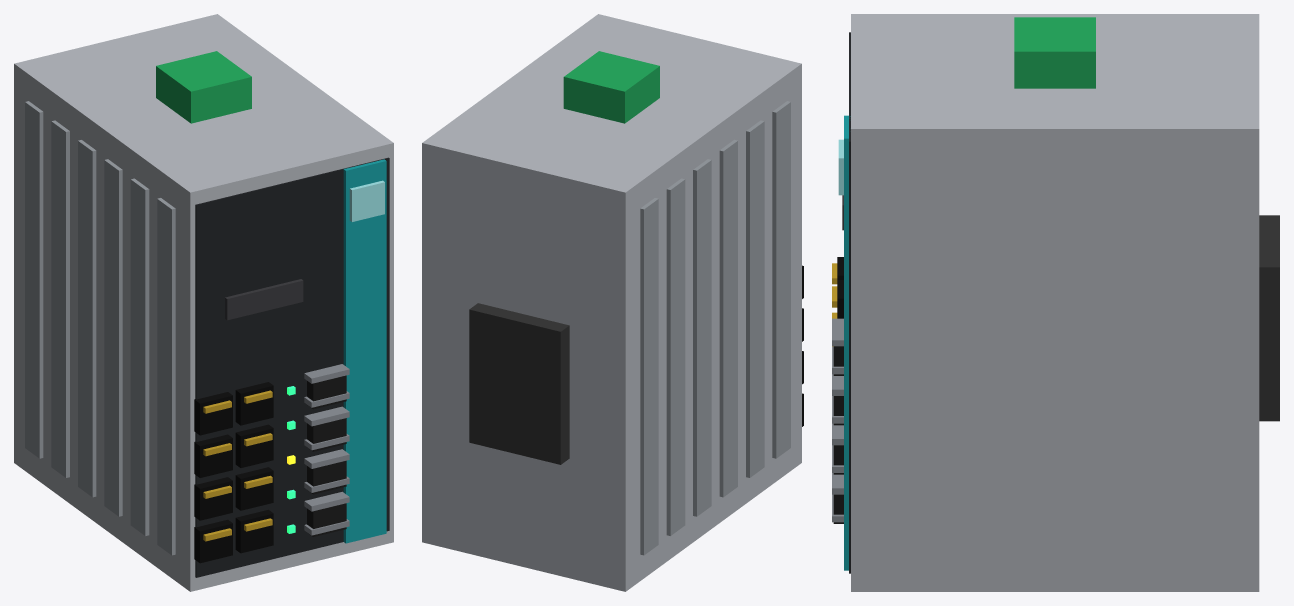
File: 29-industrial-switch-dinrail-8p.glb
The picture shows the model from 3 angles, left to right: view 1: azimuth 30°, elevation 25°; view 2: azimuth 150°, elevation 25°; view 3: azimuth 270°, elevation 25°; orthographic projection. The views are drawn at different scales.
Size of the model in its own units: 0.0815 by 0.162 by 0.1315.
